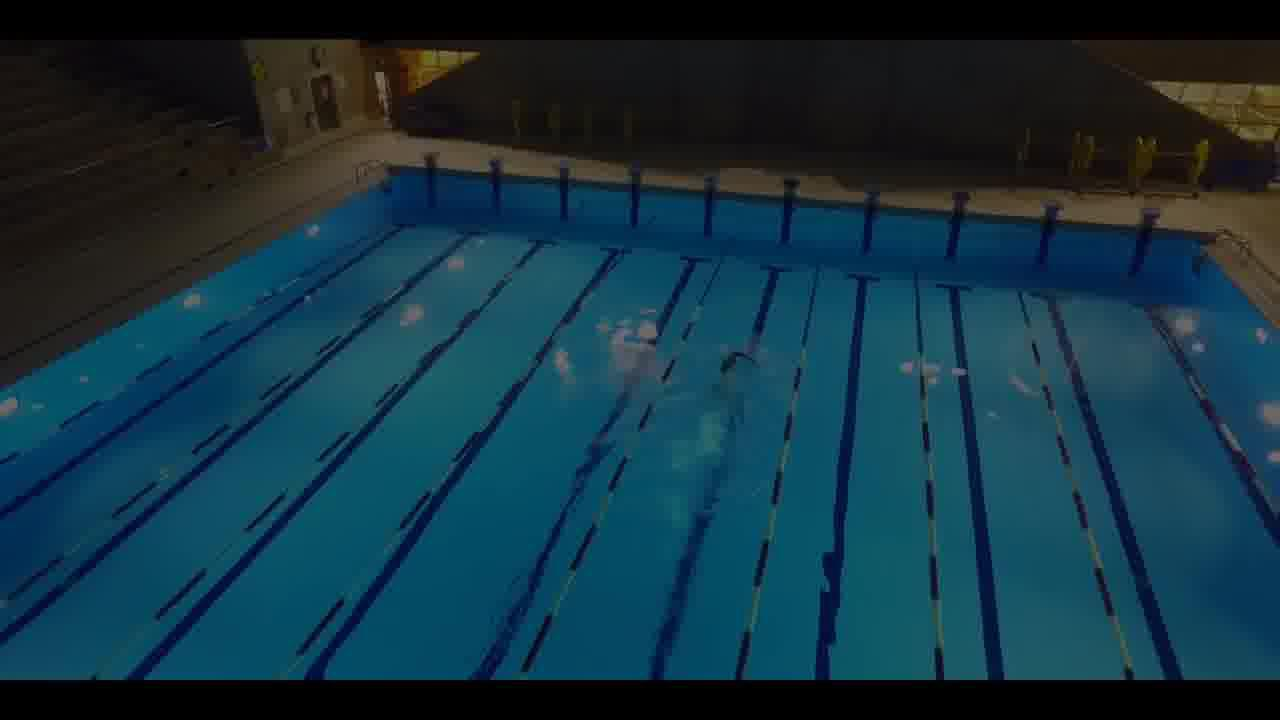human: (711, 344, 762, 385)
